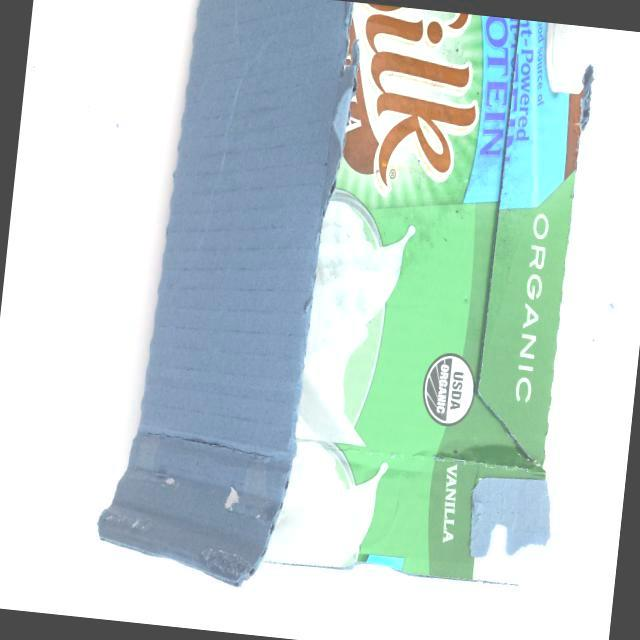cardboard: (75, 0, 613, 640)
